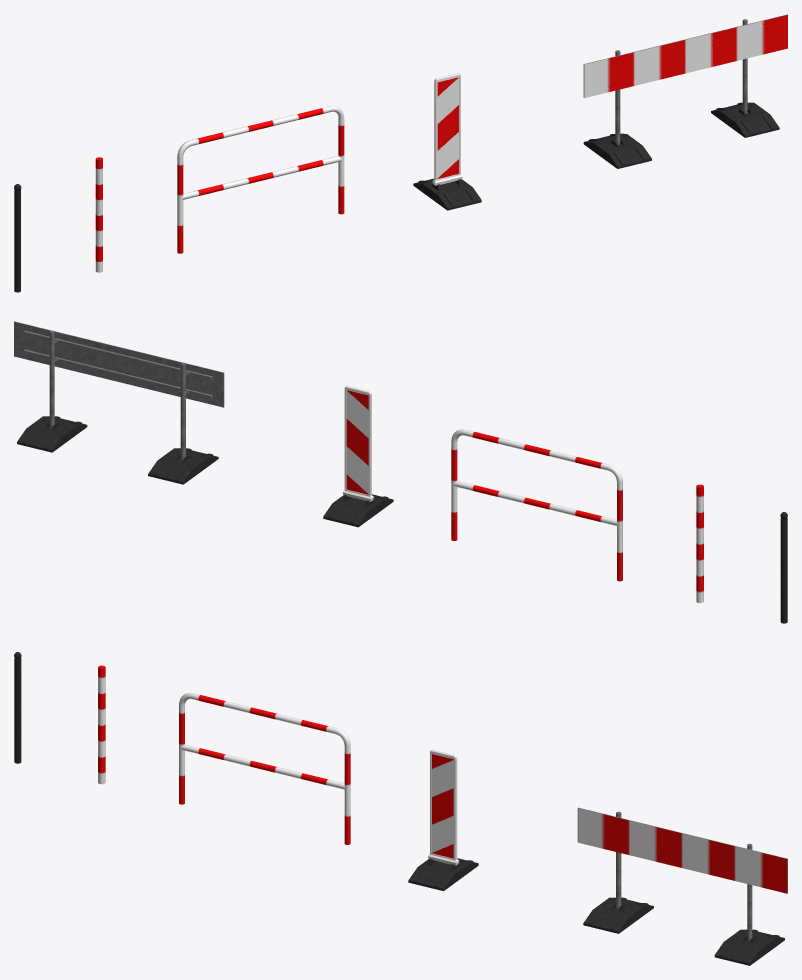
The model's file is Signs_1.FBX.
3 renders of one model, top to bottom at view 1: azimuth 30°, elevation 25°; view 2: azimuth 150°, elevation 25°; view 3: azimuth 330°, elevation 25°, orthographic. The views are drawn at different scales.
Visible parts, largest first — view 1: sign_2, sign_1, barrier_1, posts_2, posts_1; view 2: sign_2, sign_1, barrier_1, posts_2, posts_1; view 3: sign_2, sign_1, barrier_1, posts_2, posts_1.
Boxes of the visible parts, bbox=[...] form: sign_2: bbox=[583, 14, 787, 168]; sign_1: bbox=[413, 73, 481, 210]; barrier_1: bbox=[177, 106, 344, 253]; posts_2: bbox=[95, 157, 102, 272]; posts_1: bbox=[14, 184, 21, 292]; sign_2: bbox=[14, 321, 224, 484]; sign_1: bbox=[323, 385, 393, 527]; barrier_1: bbox=[451, 429, 622, 581]; posts_2: bbox=[696, 484, 703, 603]; posts_1: bbox=[780, 512, 787, 623]; sign_2: bbox=[577, 807, 787, 965]; sign_1: bbox=[408, 749, 478, 891]; barrier_1: bbox=[179, 693, 350, 844]; posts_2: bbox=[98, 665, 105, 784]; posts_1: bbox=[14, 652, 21, 763].
Bounding box in the file's own units: 710 × 105 × 55.
